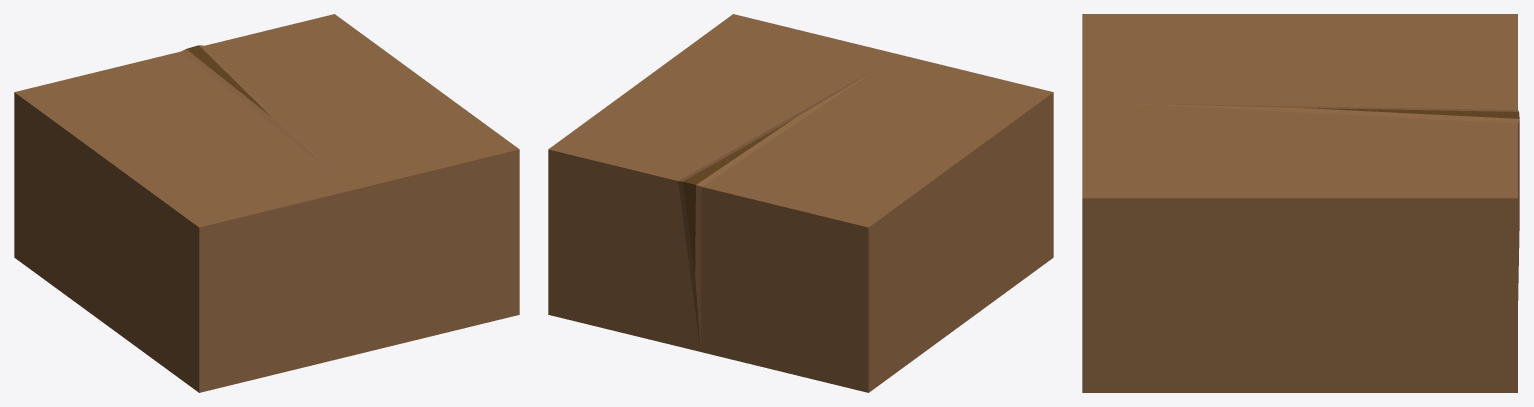
File: new_good_block.glb
The picture shows the model from 3 angles, left to right: view 1: azimuth 30°, elevation 25°; view 2: azimuth 150°, elevation 25°; view 3: azimuth 270°, elevation 25°; orthographic projection. The views are drawn at different scales.
Visible parts, largest first — view 1: Cube; view 2: Cube; view 3: Cube.
Part boxes in pixels (bbox=[...]): Cube: bbox=[14, 14, 519, 392]; Cube: bbox=[548, 14, 1053, 392]; Cube: bbox=[1082, 14, 1519, 392].
Bounding box in the file's own units: 0.9826 × 0.4885 × 0.9864.
Materials: 1 (1 with a texture image).
